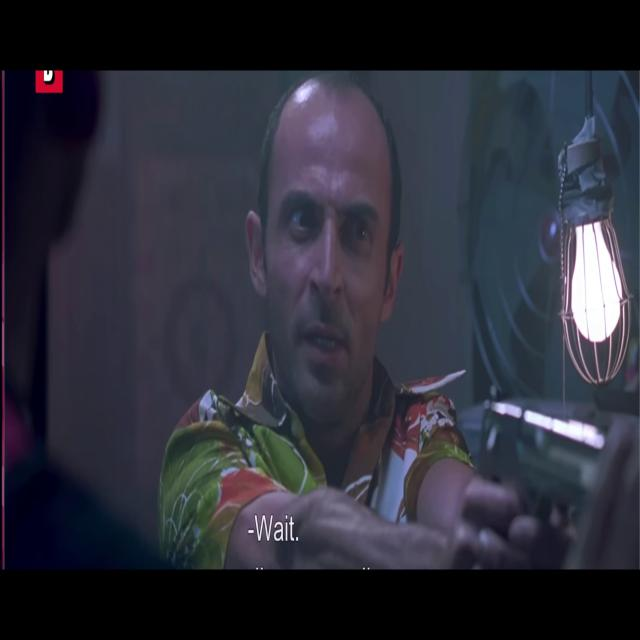weapons: (458, 348, 616, 570)
